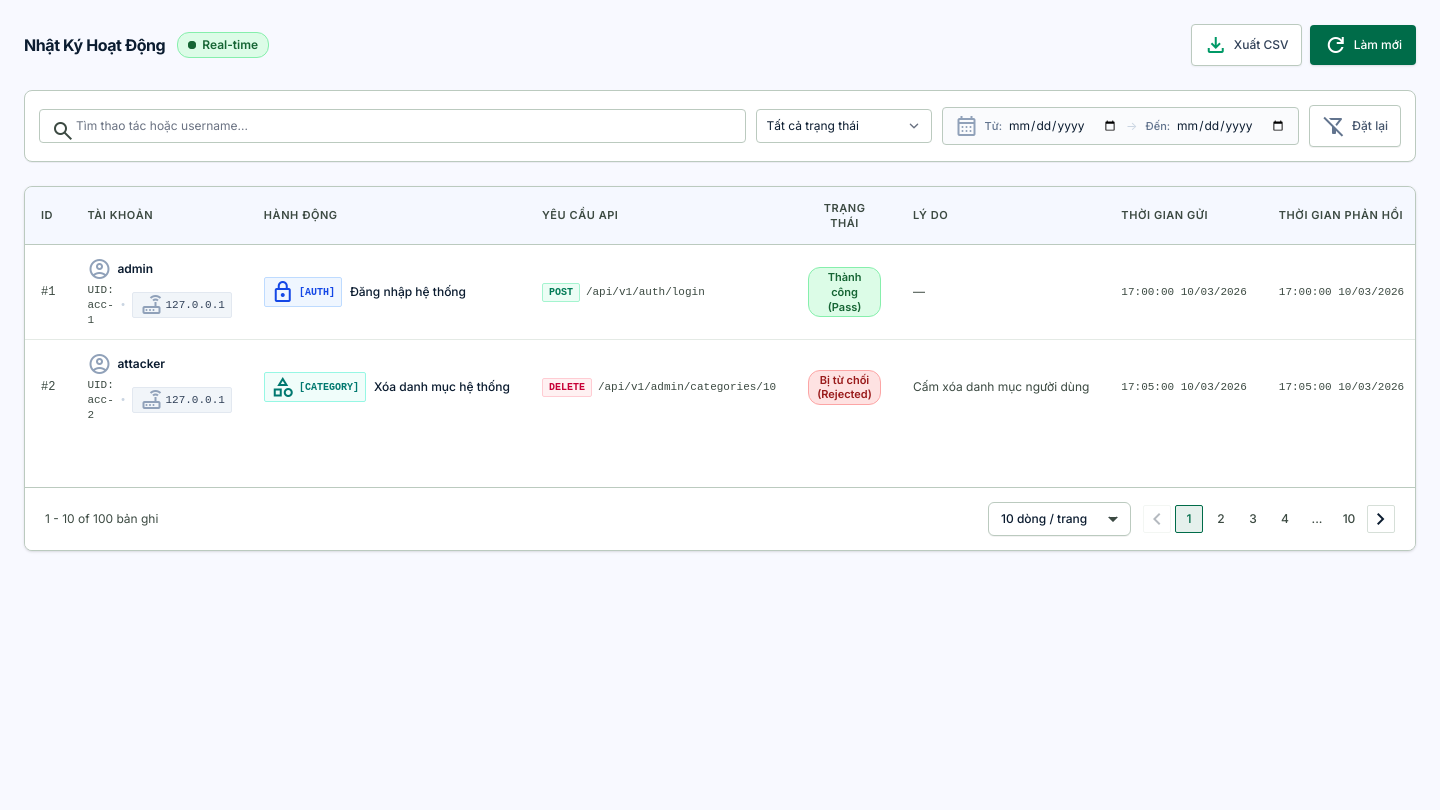
Scenario: Admin-web System Suite — AuditLogPage › 4.8. [Tầng 2 - Pagination Alert] Khi ở trang > 1, sự kiện socket kích hoạt banner và nhấn nút đưa về trang 1
The width and height of the screenshot is (1440, 810).
expect the text "Đăng nhập hệ thống" is shown: met, box [350,284,466,300]
expect the text "/api/v1/auth/login" is shown: met, box [586,285,705,300]
Note: Chuyển sang trang 2 bằng nút trang "2"
Click the button "2". click: (1221, 519)
box: [1207,505,1235,533]
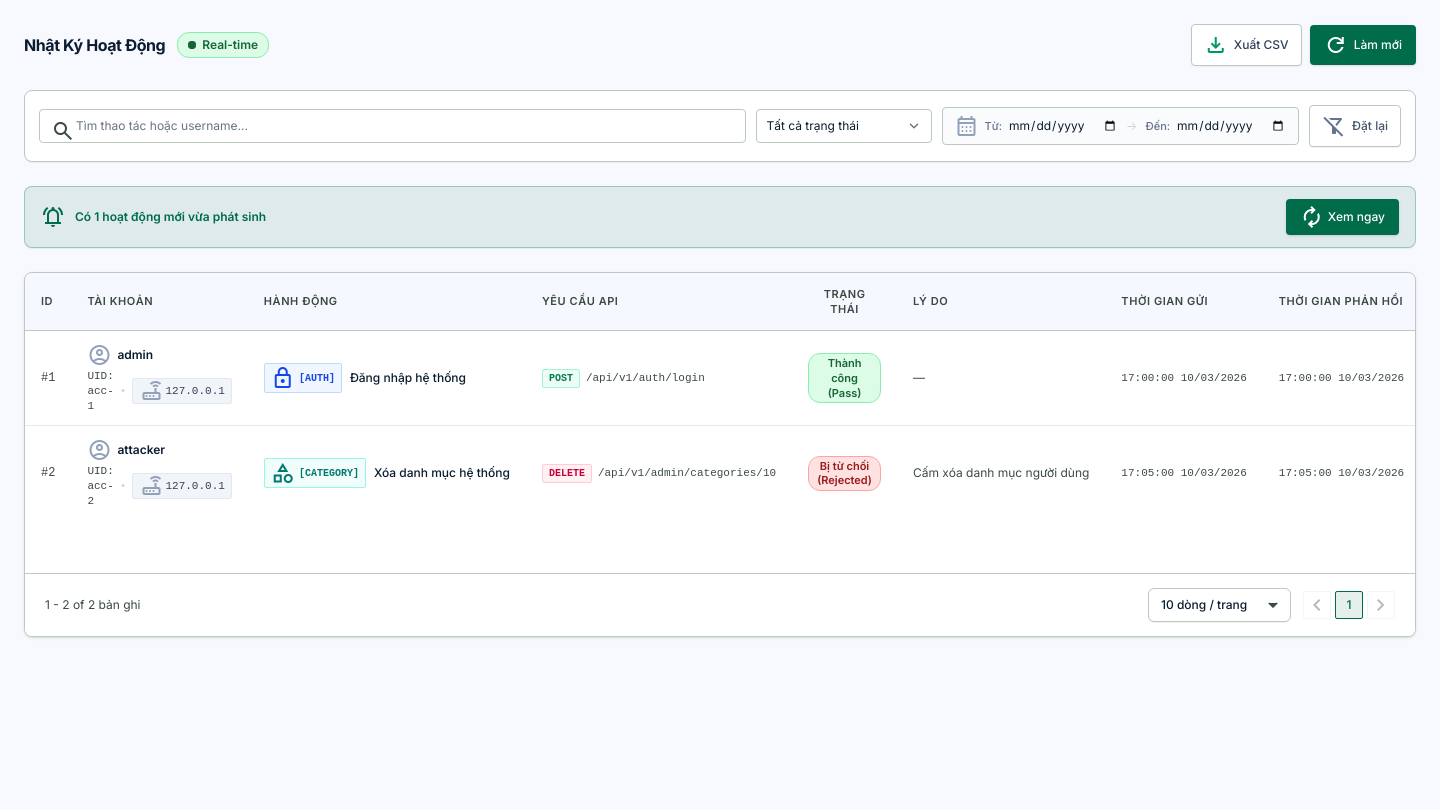
expect the element with test id "new-logs-banner" is shown: met, box [24,186,1416,248]
Note: Click nút "Xem ngay" trên banner
Click the button with test id "btn-view-new-logs". click: (1342, 217)
box: [1286,199,1399,235]
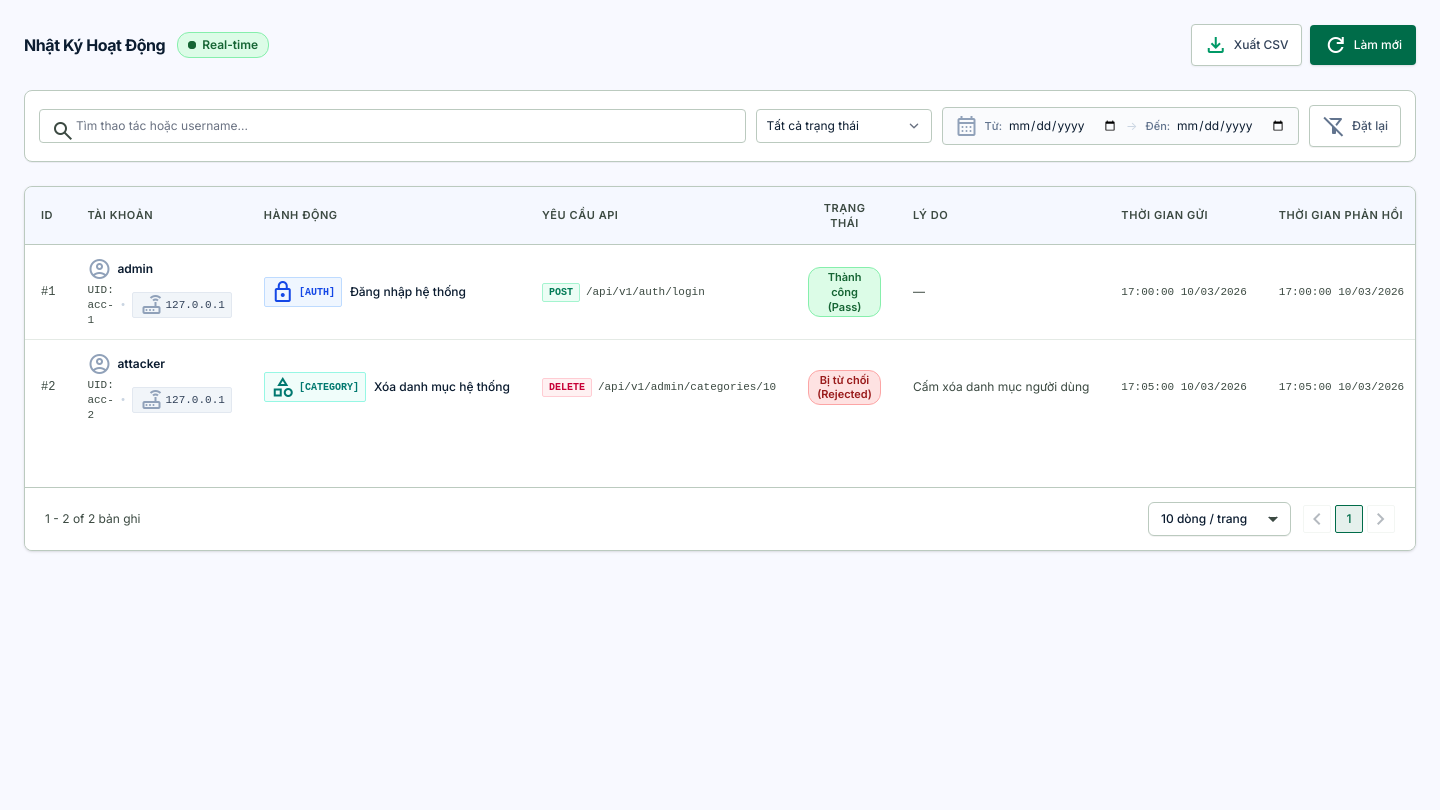
expect the element with test id "new-logs-banner" is gone: met
